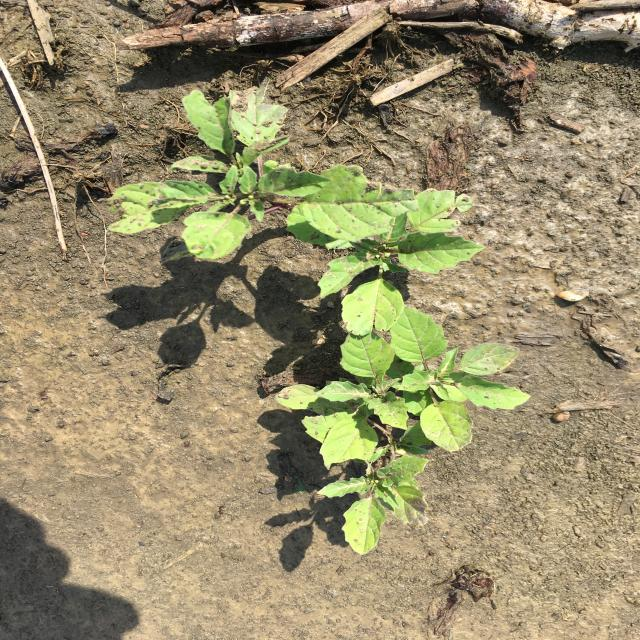CutleafGroundcherry: (104, 85, 535, 557)
